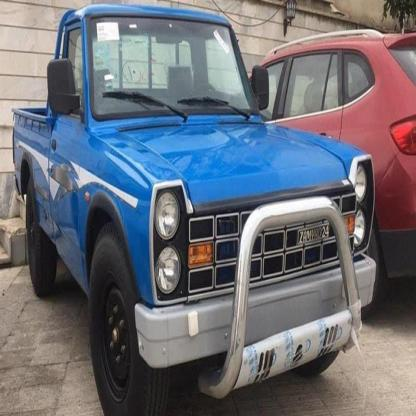Car: (9, 11, 377, 412), (243, 14, 416, 306)
